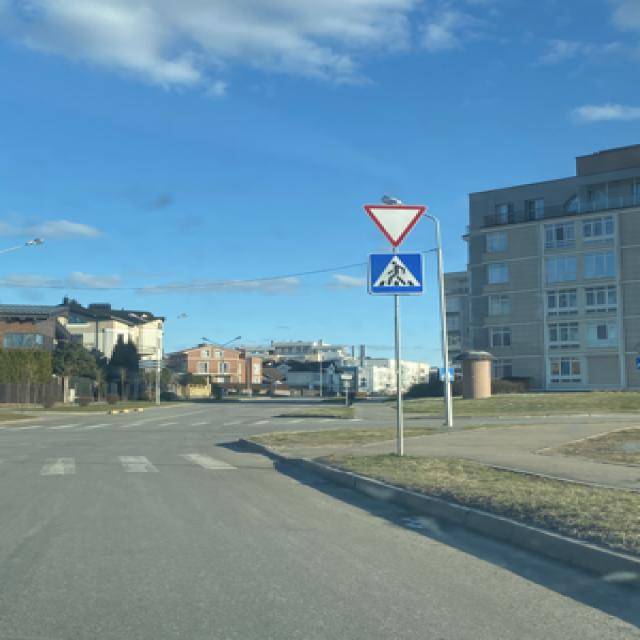crosswalk: (365, 250, 420, 291)
